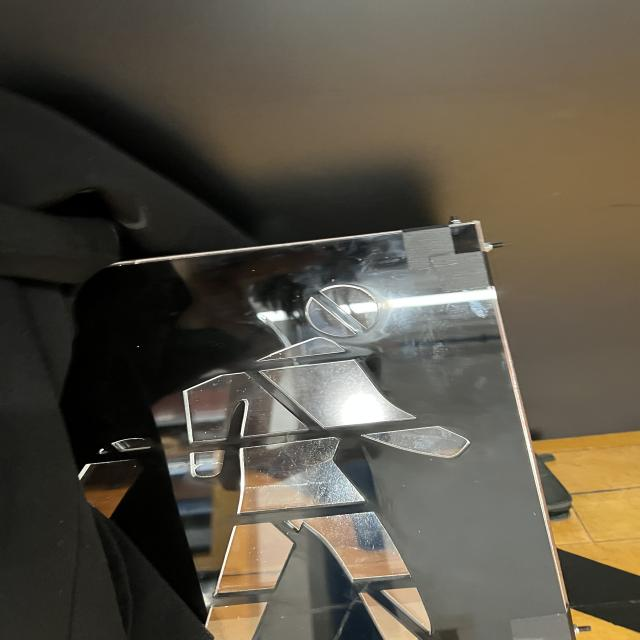go: (64, 233, 571, 640)
